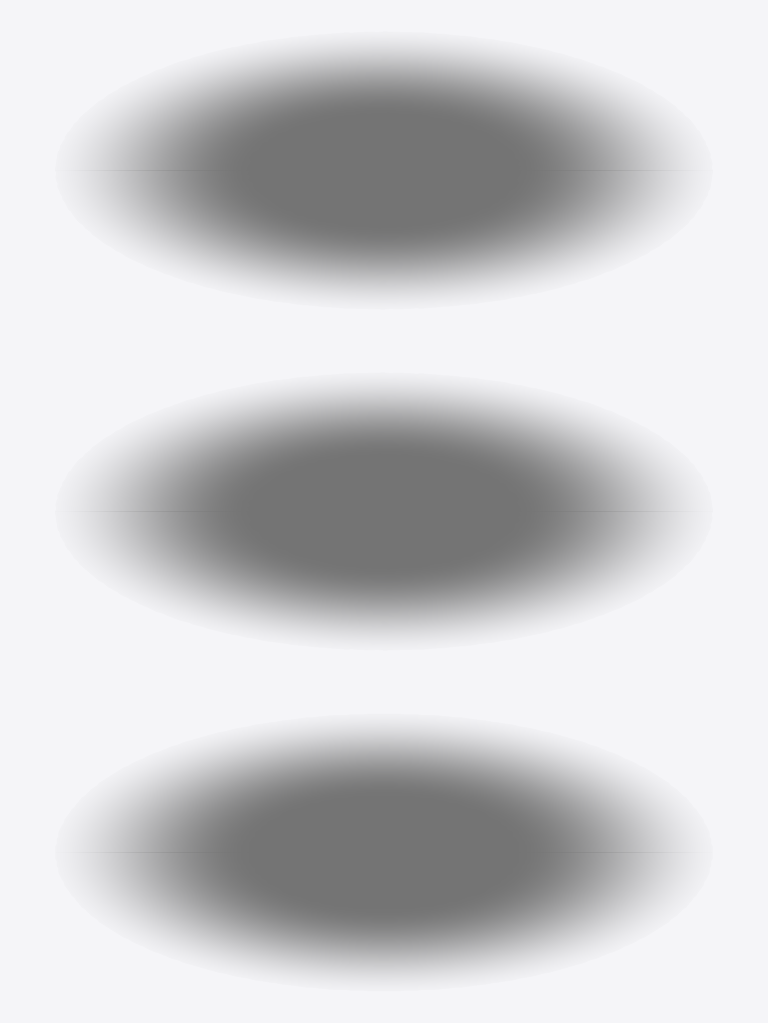
File: floor.glb
3 views of the same model, one above another, from view 1: azimuth 30°, elevation 25°; view 2: azimuth 150°, elevation 25°; view 3: azimuth 270°, elevation 25° (orthographic).
Parts seen in each view (by area): view 1: Floor; view 2: Floor; view 3: Floor.
Boxes of the visible parts, x1,y1,x2,y2 form: Floor: (79,45,688,295); Floor: (79,386,688,636); Floor: (79,727,688,977).
Bounding box in the file's own units: 2 × 0 × 2.
2 materials, 1 textured.
